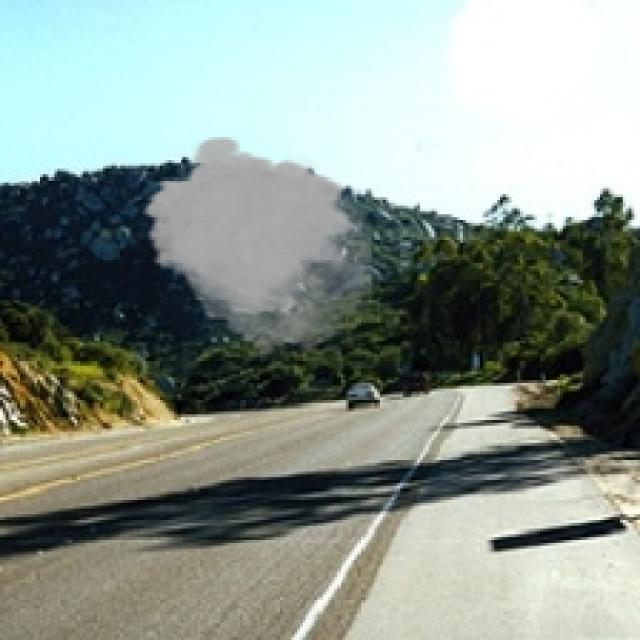Smoke: (140, 134, 372, 363)
